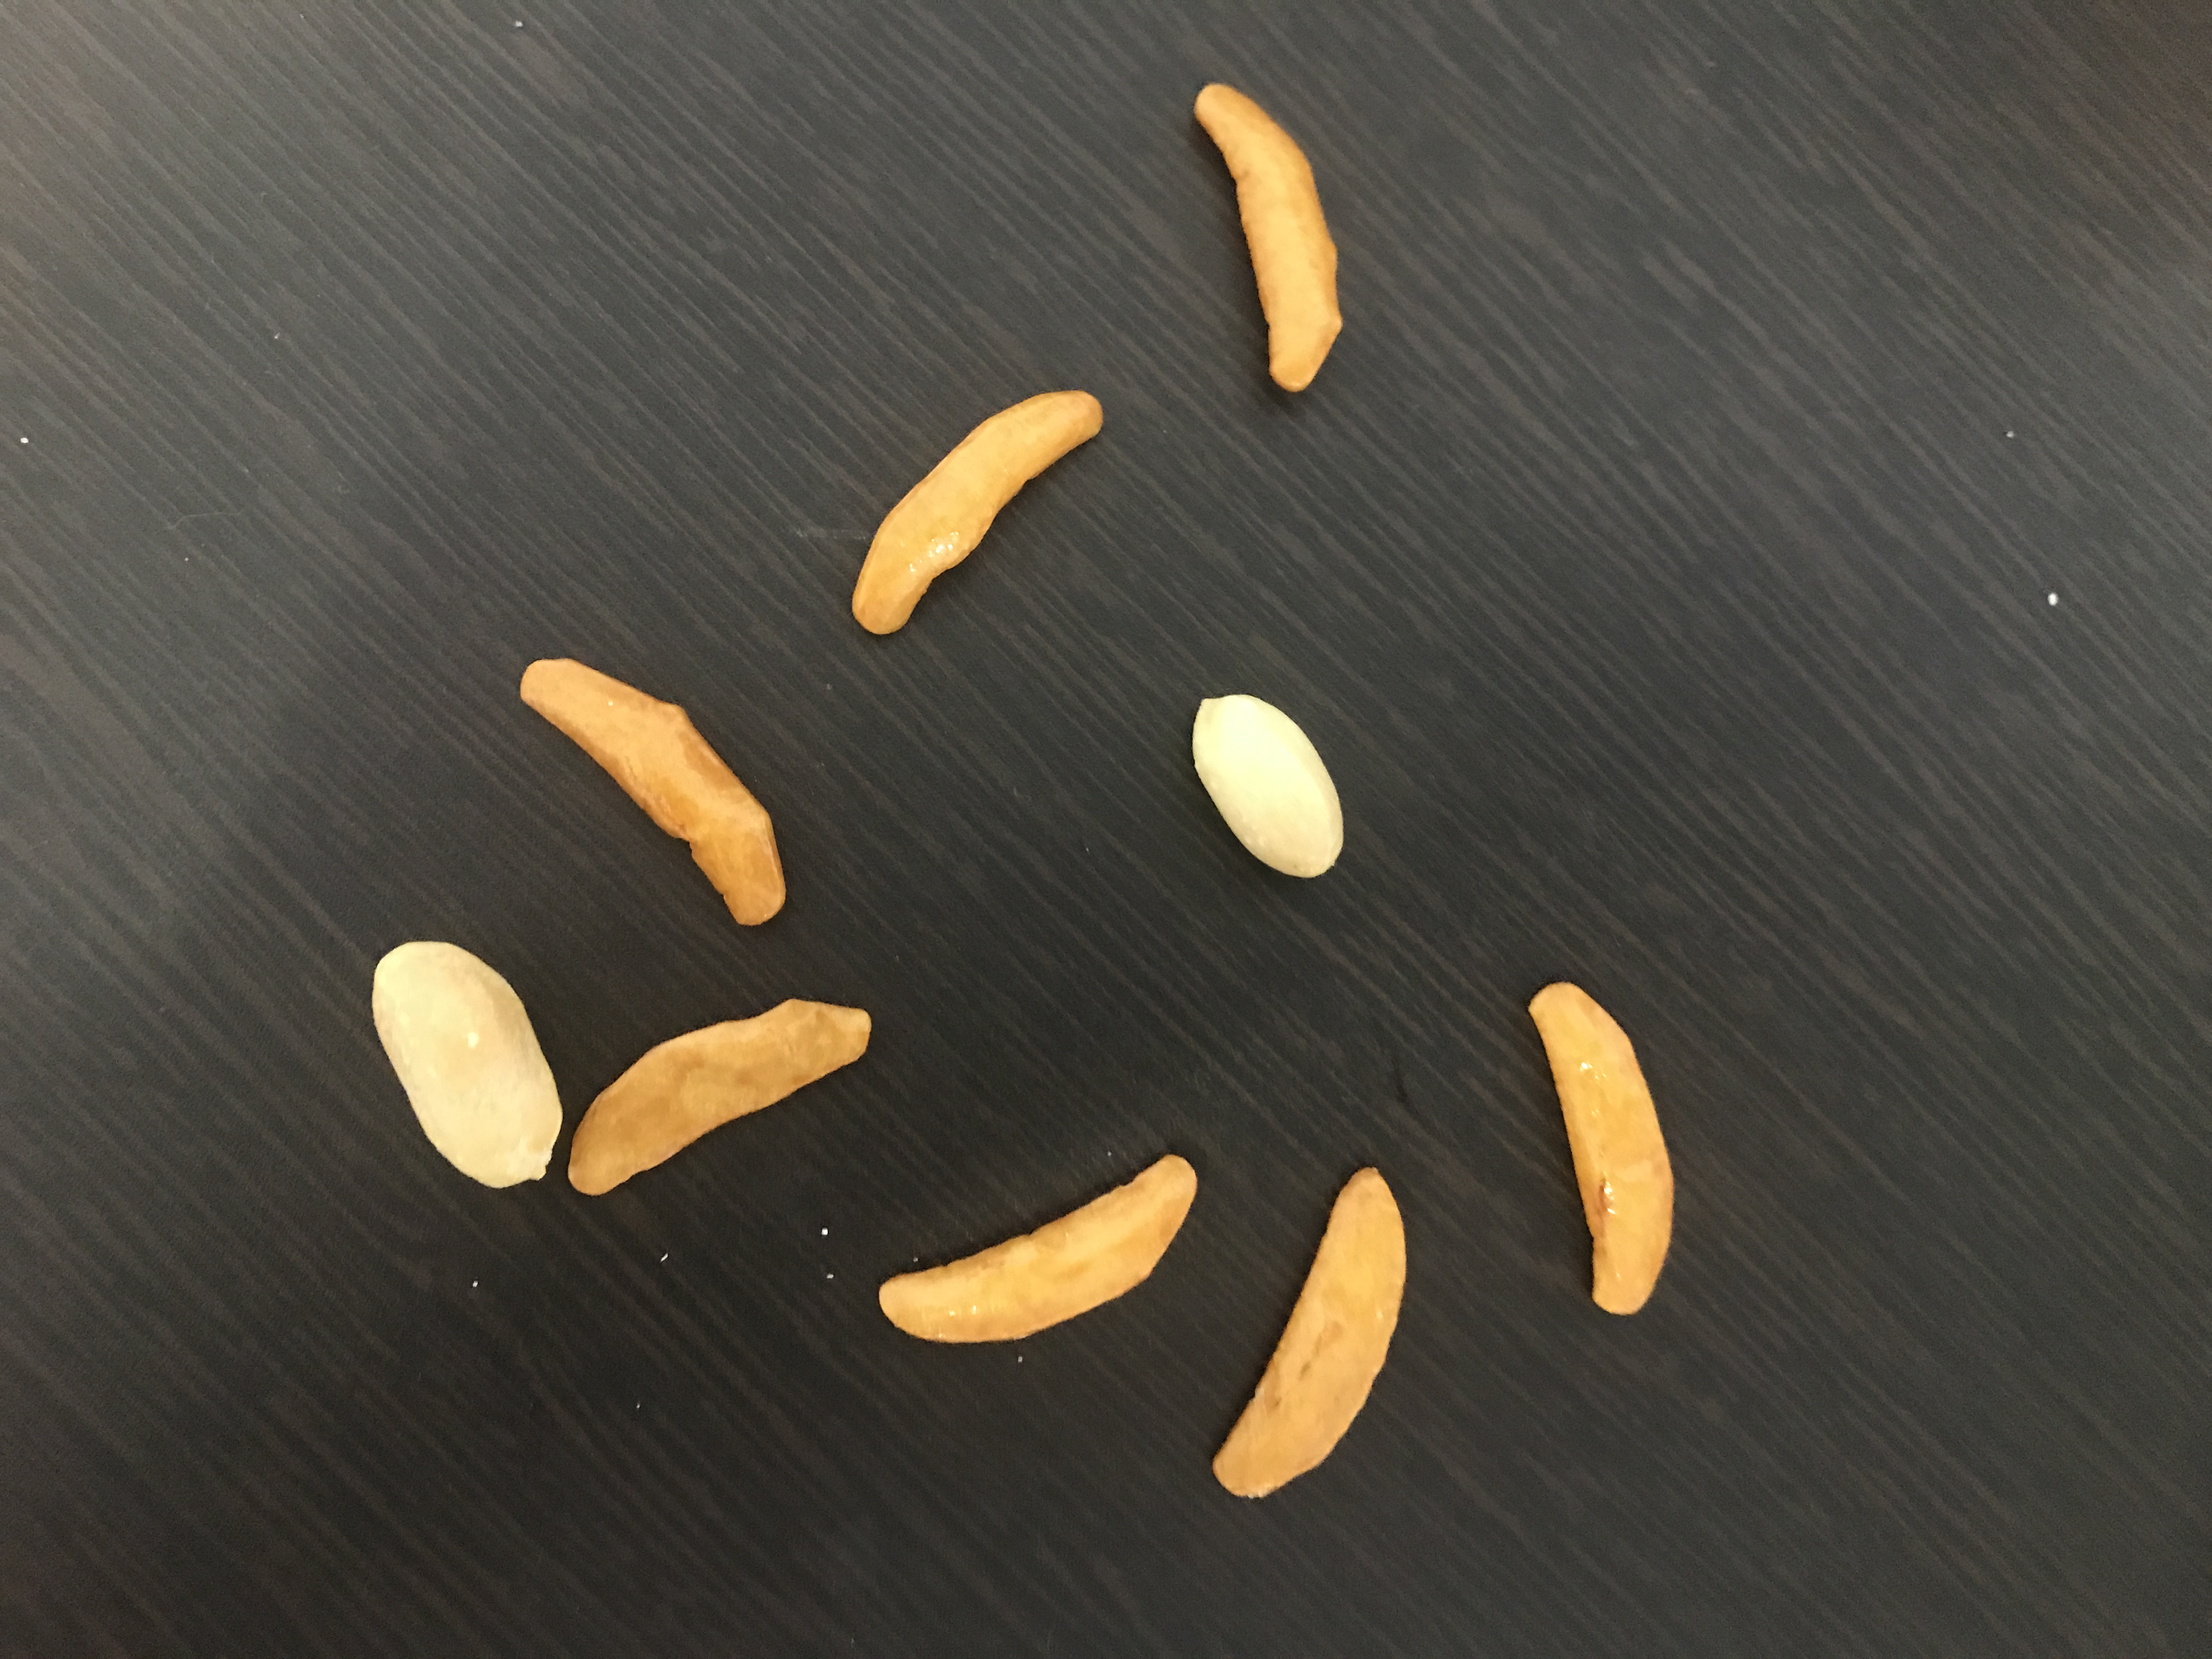peanut: (368, 932, 563, 1195), (1186, 685, 1362, 884)
